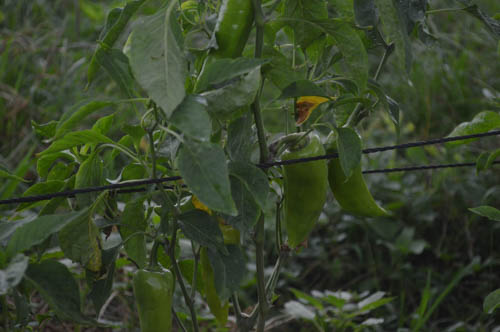ChiliPepper: (327, 136, 388, 219), (279, 142, 324, 244), (130, 269, 176, 332), (203, 226, 233, 321), (217, 3, 251, 62)
